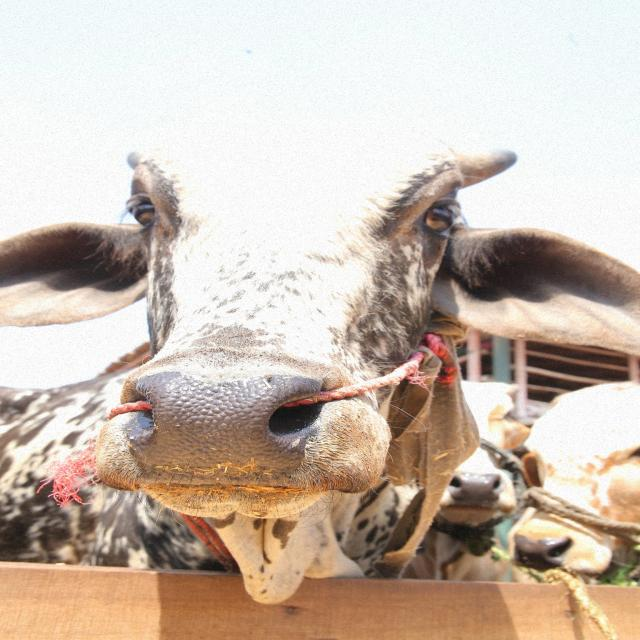muzzles: (110, 365, 343, 489)
